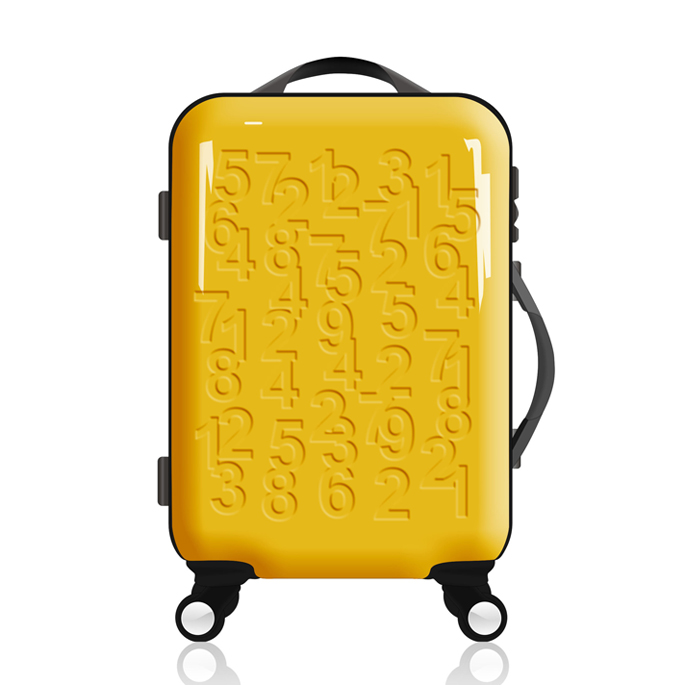luggage: (157, 54, 554, 643)
